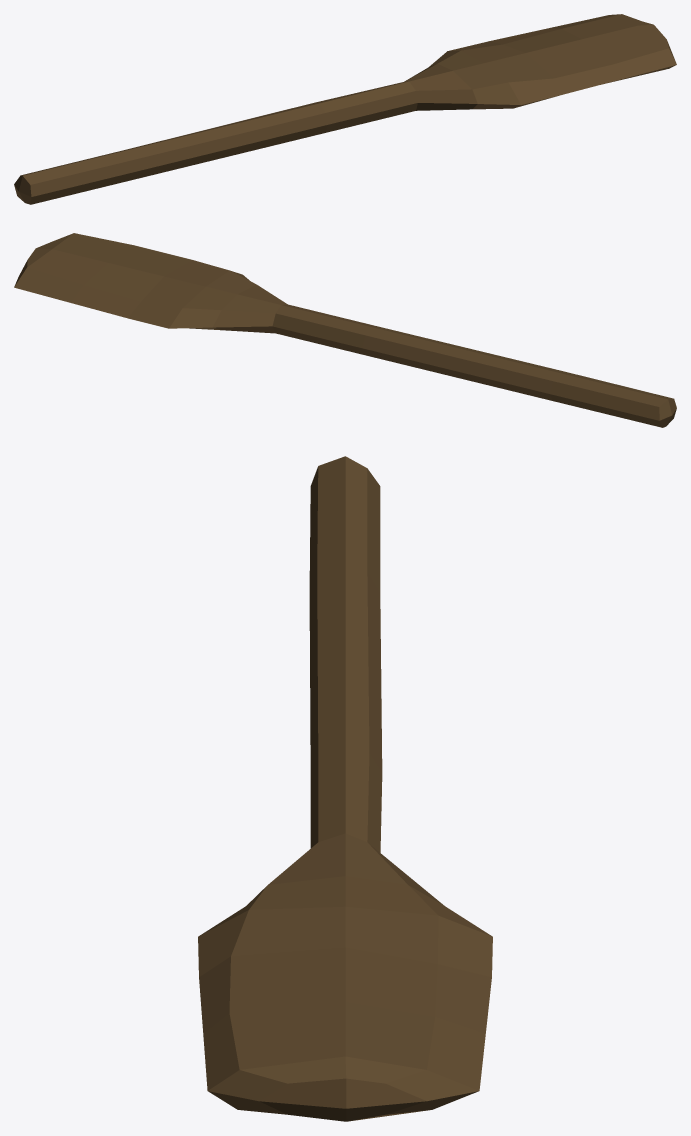
Rendered from Paddel.fbx.
3 renders of one model, top to bottom at view 1: azimuth 30°, elevation 25°; view 2: azimuth 150°, elevation 25°; view 3: azimuth 270°, elevation 25°, orthographic. The views are drawn at different scales.
Visible parts, largest first — view 1: Paddel; view 2: Paddel; view 3: Paddel.
Part boxes in pixels (x1,y1,x2,y2): Paddel: (14,14,676,204); Paddel: (14,233,676,427); Paddel: (198,456,492,1121).
Bounding box in the file's own units: 496 × 22.64 × 98.73.
